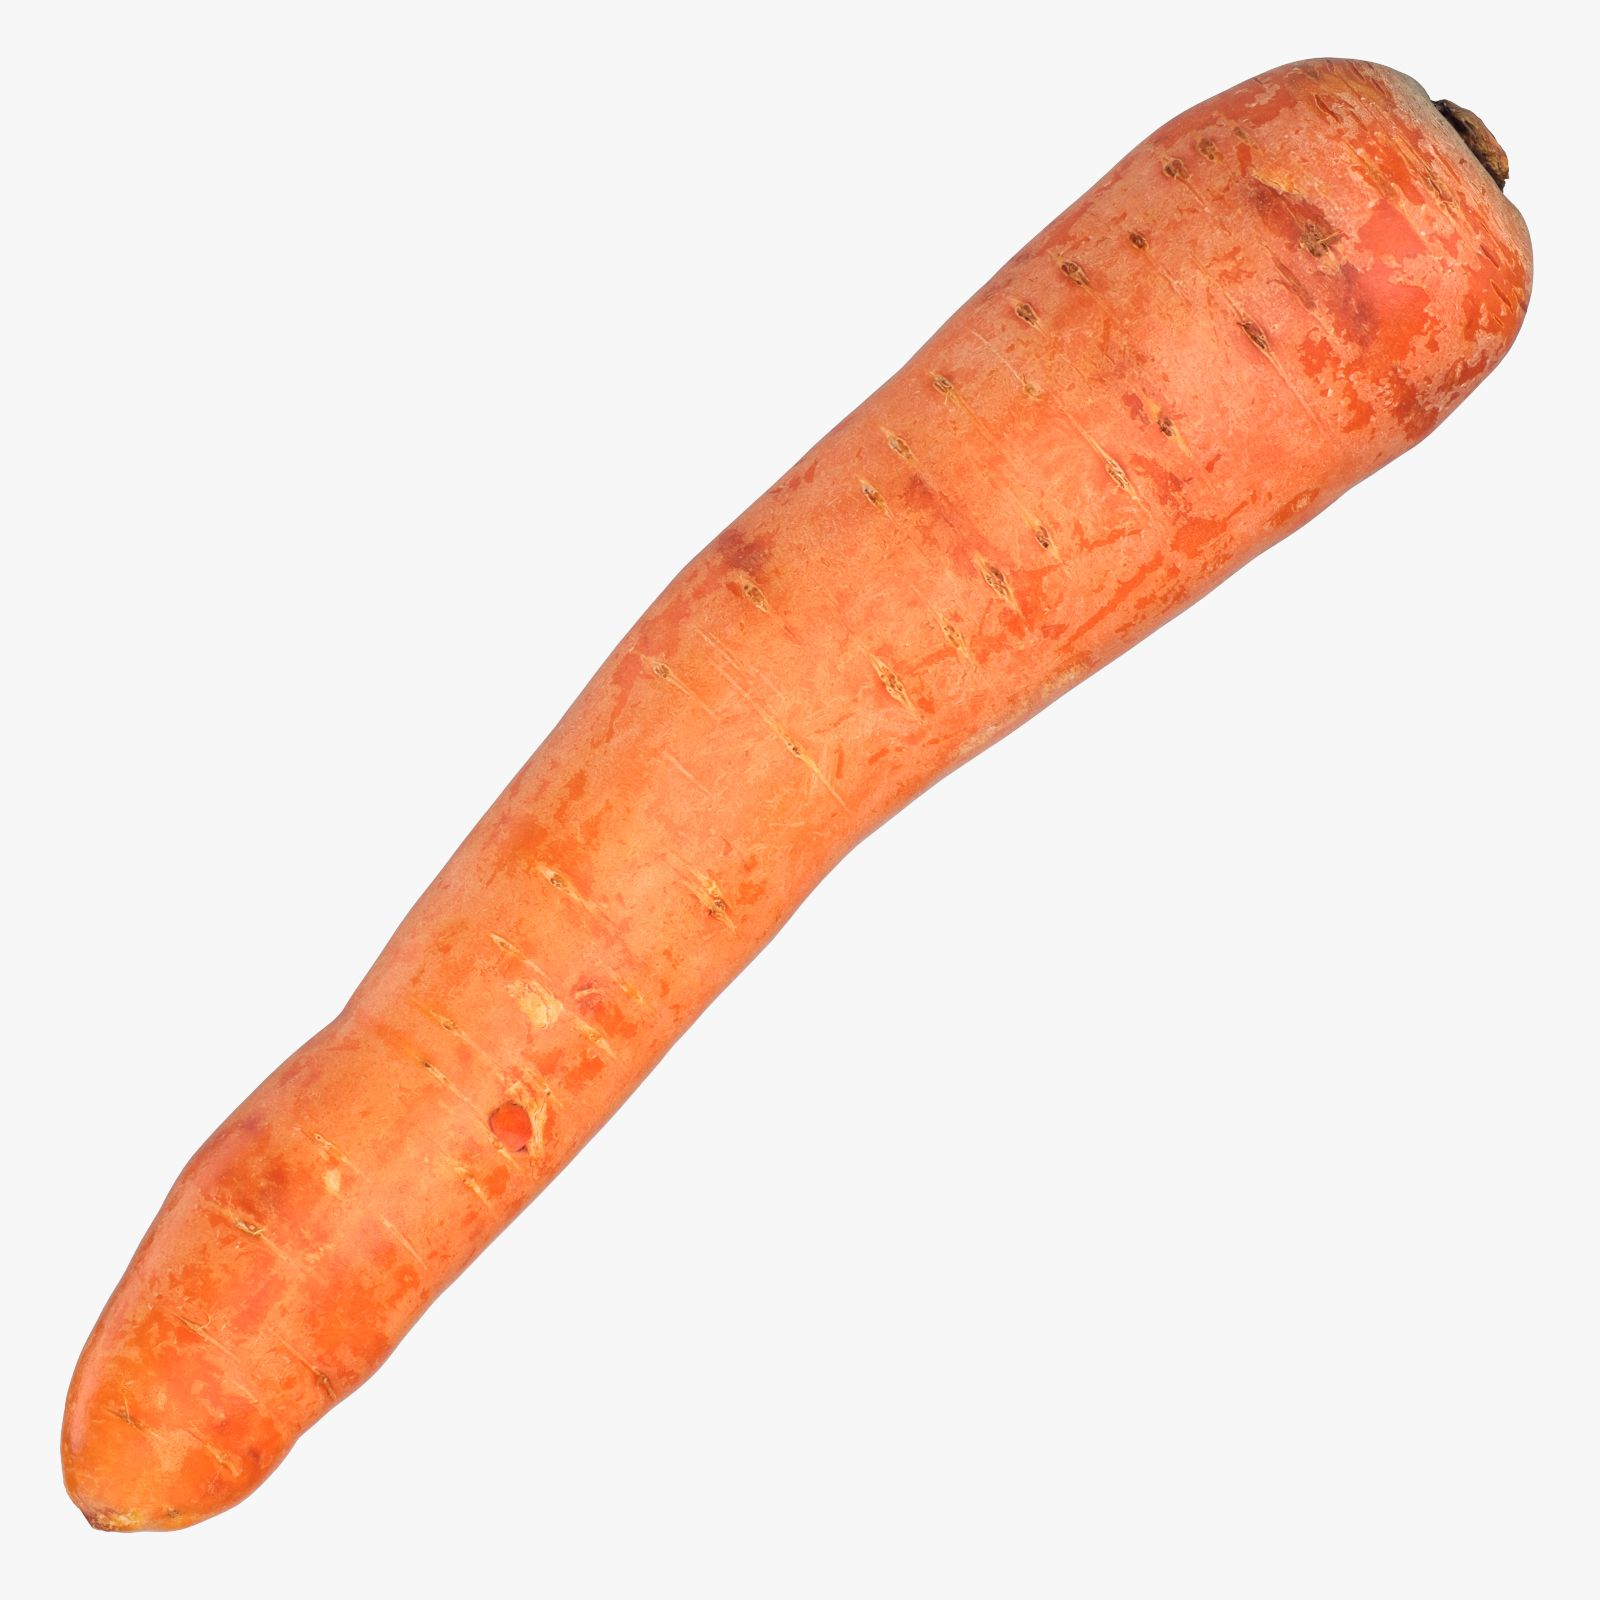carrot: (70, 21, 1558, 1579)
